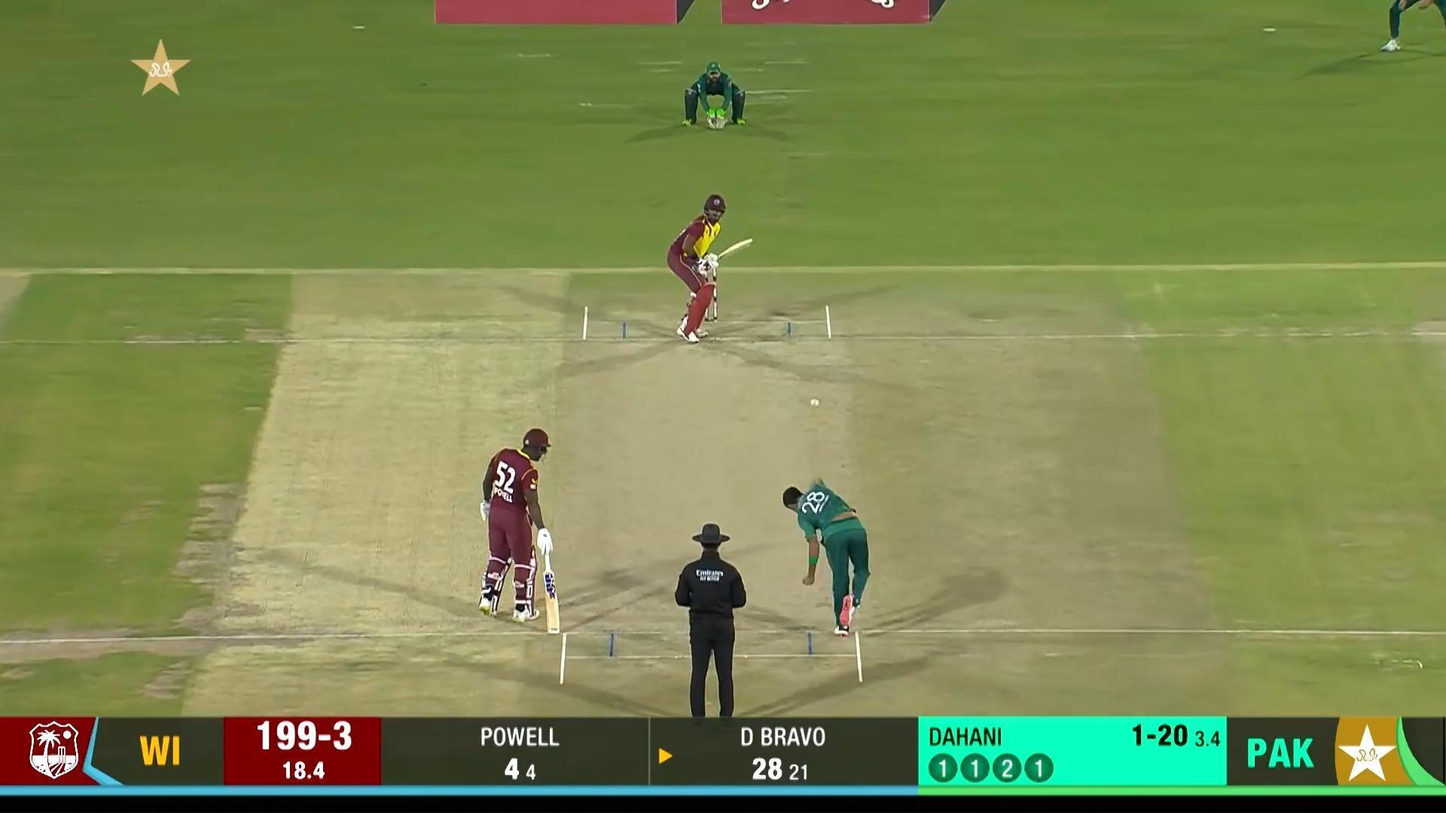BM 1: (666, 193, 755, 344)
BO: (782, 477, 872, 637)
